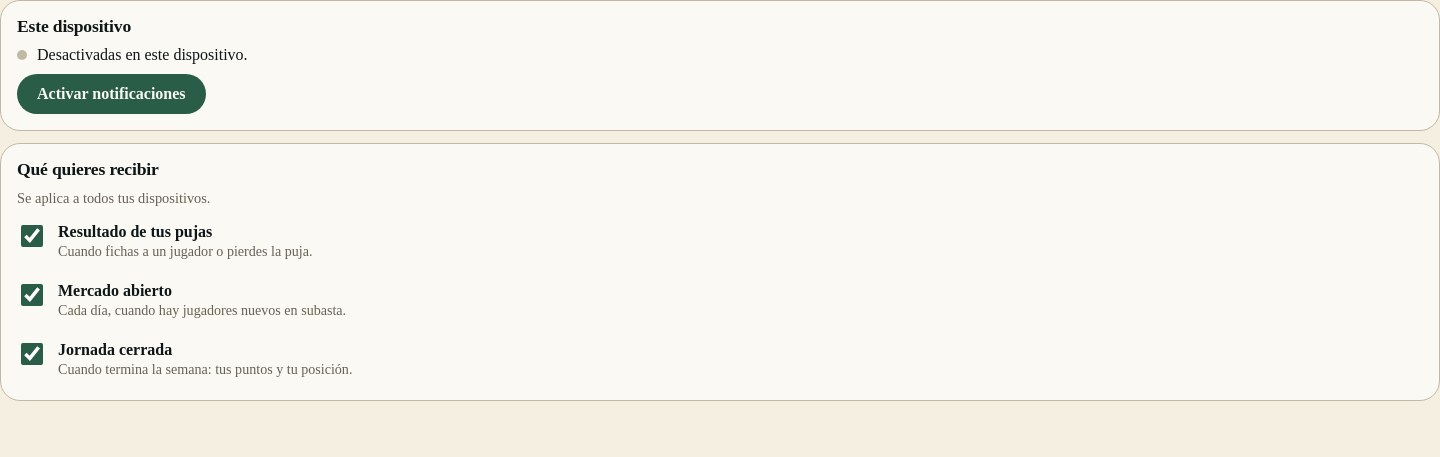
NotificationSettings › switching on subscribes and the screen follows what the browser now says
Click the button "Activar notificaciones": (111, 94) x1=17 y1=74 x2=206 y2=114
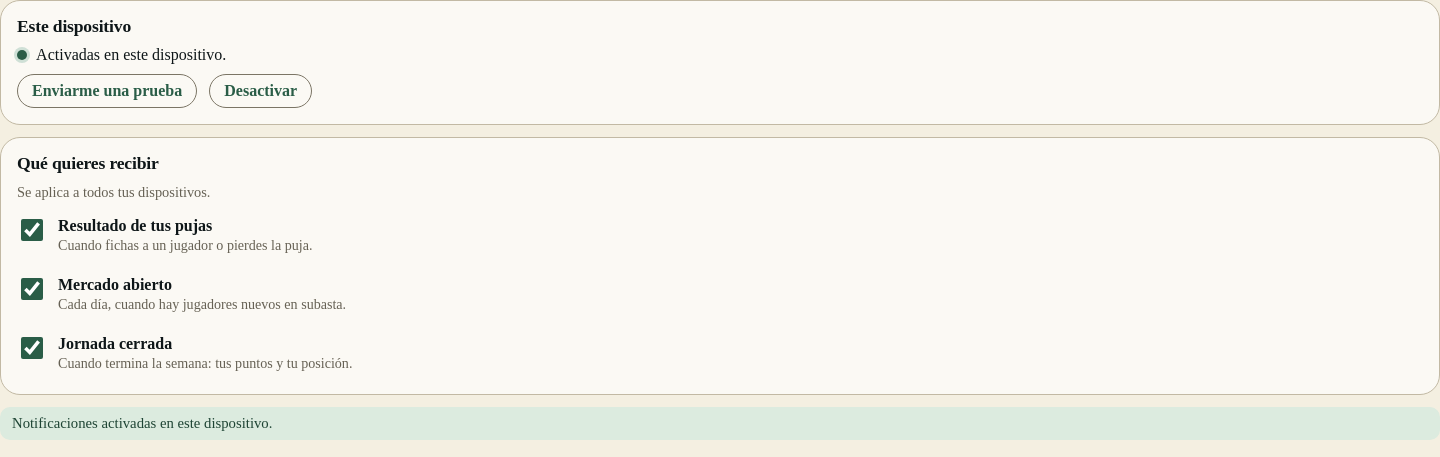
Expected: the text "Activadas en este dispositivo" is shown, x1=33 y1=46 x2=226 y2=63
Now the text "Notificaciones activadas en este dispositivo." is shown, box x1=0 y1=407 x2=1439 y2=440
Now the button "Desactivar" is shown, box x1=209 y1=74 x2=312 y2=108
